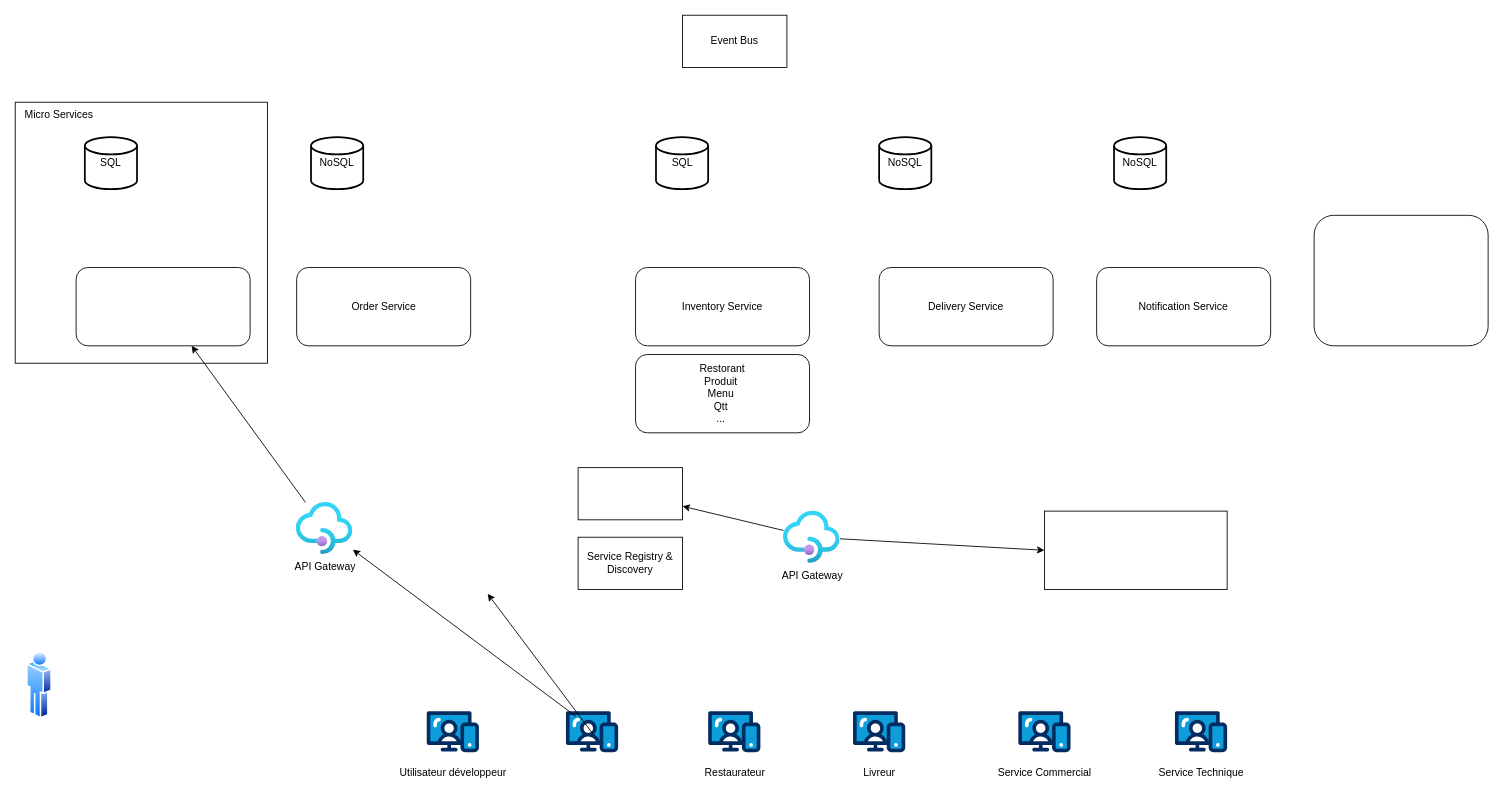
This 1503x794 diagram has some shape labels left out. The shapes that lost their labels are listed below. From the top down, each one's box as (x1, y1, x2, y2) in pixels, then its label:
(1313, 214, 1488, 346): Monitoring
(75, 267, 250, 346): Acount Service
(577, 467, 683, 520): Identity Provider
(1044, 510, 1227, 589): Handle incoming requests and routes them to the relevant MS
(26, 650, 52, 719): Admin
(565, 710, 618, 752): Utilisateur Final
